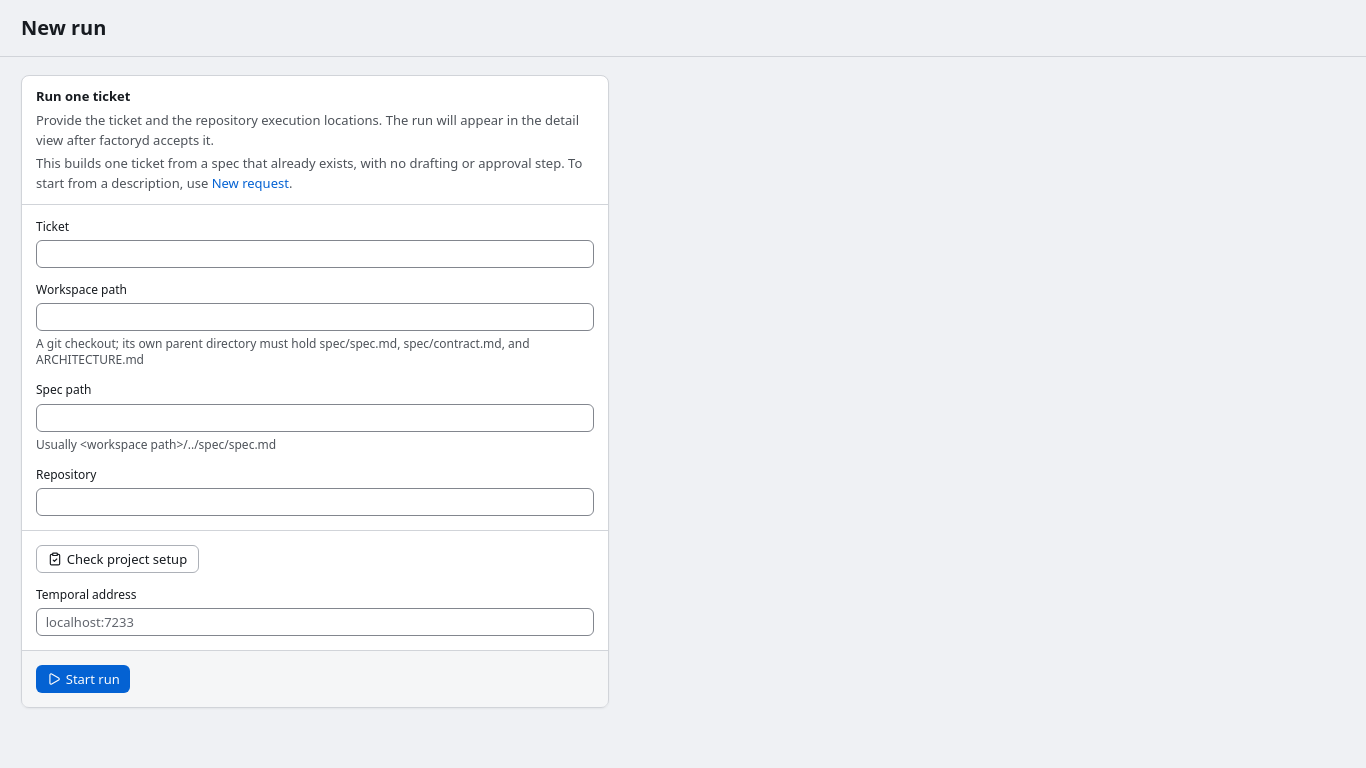
"Check project setup" reports every failing artifact with its reason
Type "/repo/workspace" into the field labelled "Workspace path". click: (315, 317)
box: [36,303,594,331]
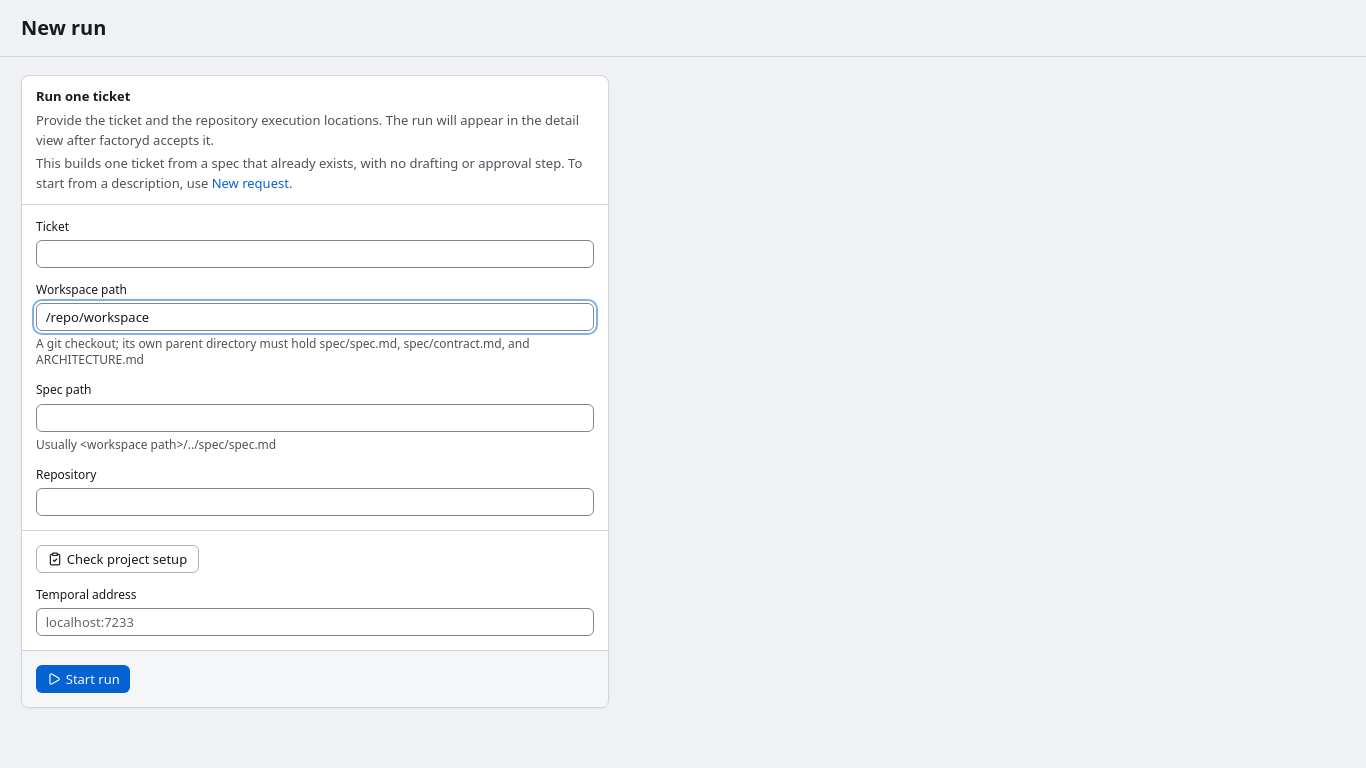
Click the button "Check project setup". click: click(117, 559)
box: [36,545,199,573]
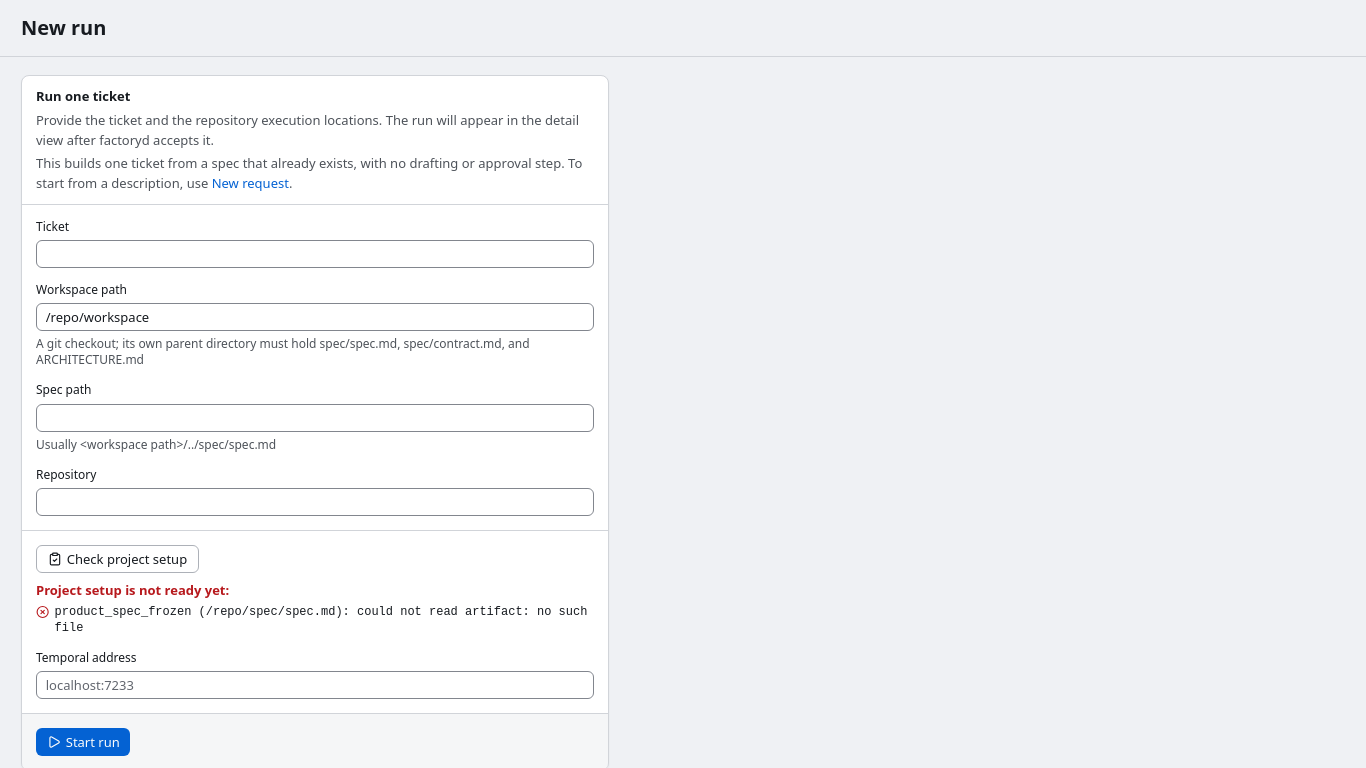
Now the text "Project setup is not ready yet:" is shown, box [36,581,229,599]
Now the text "product_spec_frozen (/repo/spec/spec.md): could not read artifact: no such file" is shown, box [54,604,594,636]
